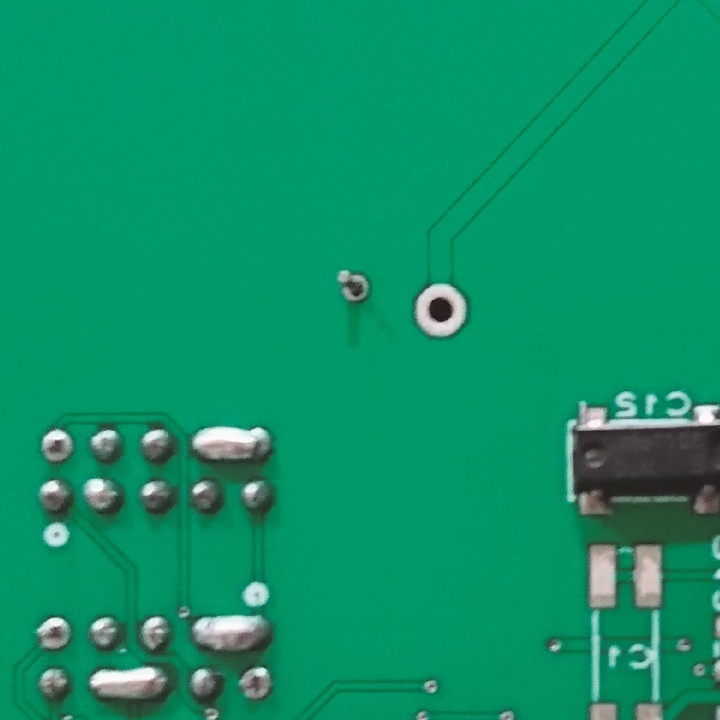F: (410, 281, 469, 343), (334, 265, 371, 308), (36, 425, 76, 464), (34, 615, 72, 653), (237, 667, 275, 702)
P: (187, 423, 273, 466), (191, 612, 267, 655), (91, 666, 167, 704)
